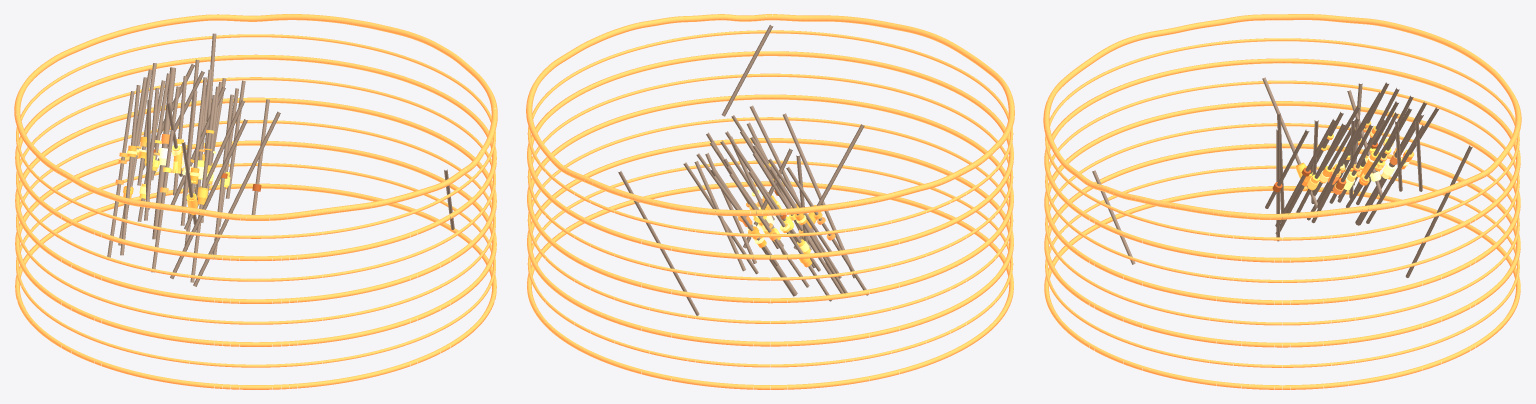
3 renders of one model, left to right at view 1: azimuth 30°, elevation 25°; view 2: azimuth 150°, elevation 25°; view 3: azimuth 270°, elevation 25°, orthographic. The views are drawn at different scales.
Visible parts, largest first — view 1: wall_100m, wall_50m, holes_tubes, wall_rim, h023_tubes; view 2: wall_100m, wall_50m, holes_tubes, wall_rim, h023_tubes; view 3: wall_100m, wall_50m, holes_tubes, wall_rim, h023_tubes.
Boxes of the visible parts, x1=… form: wall_100m: x1=15, y1=54, x2=496, y2=389; wall_50m: x1=16, y1=34, x2=495, y2=367; holes_tubes: x1=107, y1=33, x2=454, y2=286; wall_rim: x1=14, y1=14, x2=497, y2=220; h023_tubes: x1=152, y1=67, x2=175, y2=239; wall_100m: x1=527, y1=51, x2=1013, y2=389; wall_50m: x1=527, y1=30, x2=1013, y2=367; holes_tubes: x1=618, y1=25, x2=868, y2=315; wall_rim: x1=526, y1=14, x2=1014, y2=215; h023_tubes: x1=710, y1=167, x2=797, y2=296; wall_100m: x1=1044, y1=58, x2=1520, y2=389; wall_50m: x1=1045, y1=38, x2=1519, y2=367; holes_tubes: x1=1092, y1=77, x2=1472, y2=277; wall_rim: x1=1043, y1=14, x2=1521, y2=219; h023_tubes: x1=1355, y1=112, x2=1423, y2=225.
Bounding box in the file's own units: 0.6077 × 0.2506 × 0.6077.
